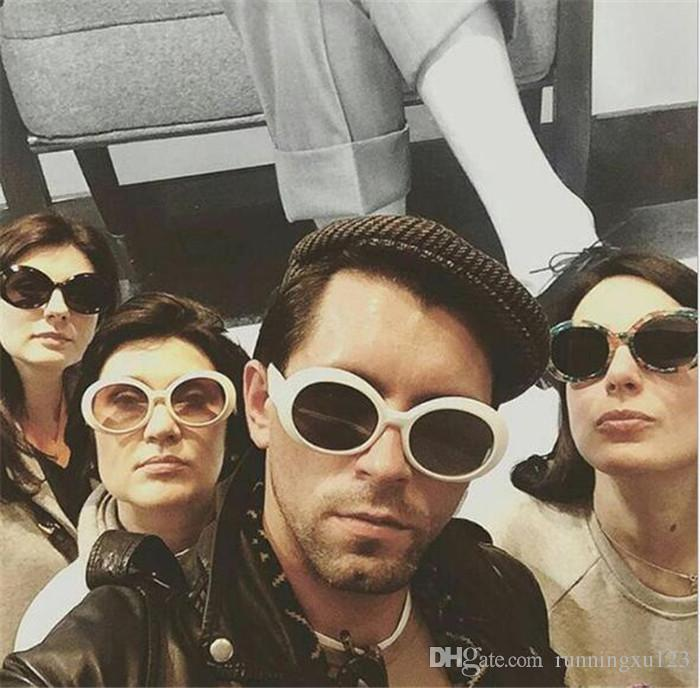sunglasses: (265, 363, 510, 478), (521, 304, 700, 377), (62, 365, 248, 434), (5, 262, 111, 315)
